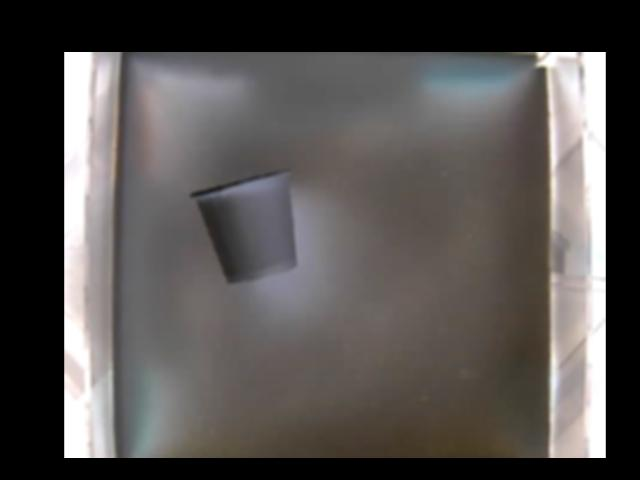Cup: (189, 171, 300, 285)
